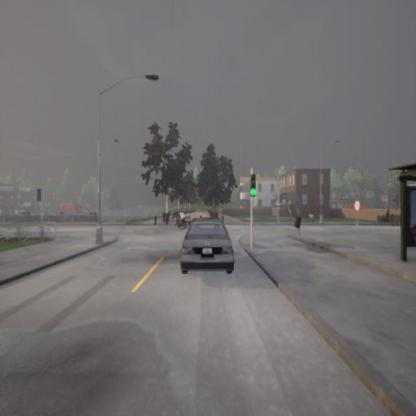traffic_light_green: (250, 172, 256, 195)
vehicle: (179, 220, 235, 276)
